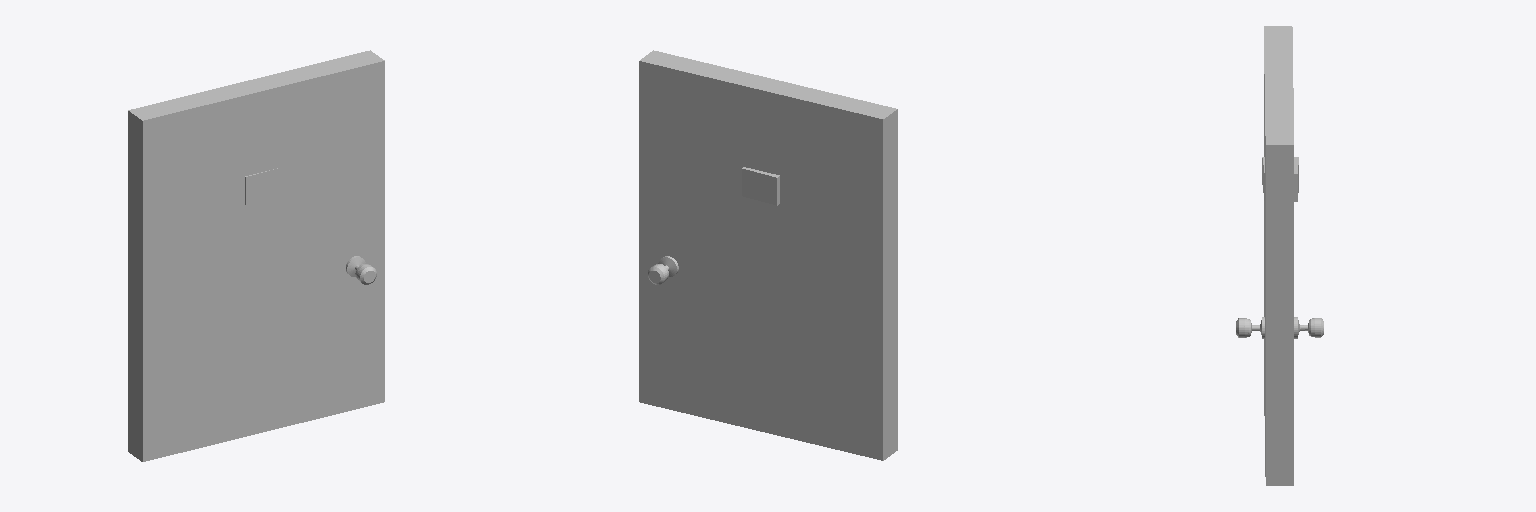
Rendered from Door_2_Open40.obj.
3 views of the same model, side by side, from view 1: azimuth 30°, elevation 25°; view 2: azimuth 150°, elevation 25°; view 3: azimuth 270°, elevation 25° (orthographic).
Parts seen in each view (by area): view 1: Longer_Door; view 2: Longer_Door; view 3: Longer_Door.
Part boxes in pixels (bbox=[...]): Longer_Door: bbox=[128, 50, 384, 461]; Longer_Door: bbox=[639, 50, 897, 460]; Longer_Door: bbox=[1236, 26, 1323, 485].
Bounding box in the file's own units: 0.9187 × 1.23 × 0.2867.